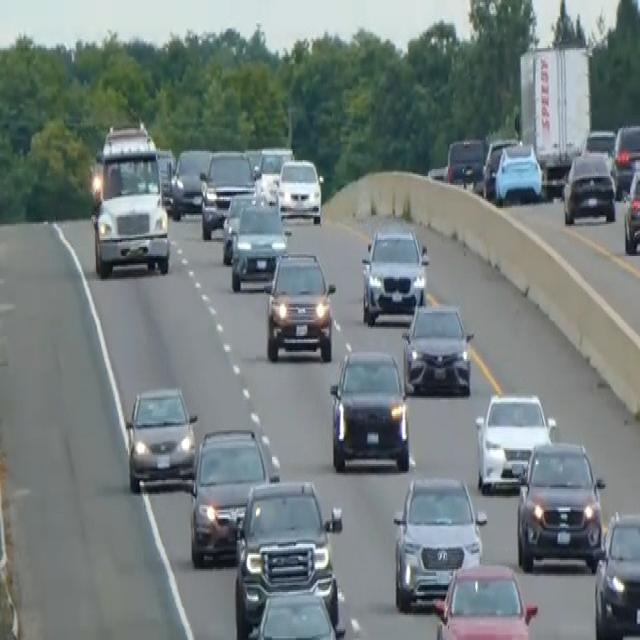car: (233, 476, 343, 638), (184, 425, 280, 567), (392, 473, 487, 611), (515, 438, 605, 572), (328, 345, 410, 473), (474, 390, 556, 494), (263, 249, 336, 363), (432, 560, 538, 638), (125, 382, 198, 491), (360, 219, 429, 325), (401, 300, 474, 396), (593, 508, 639, 638), (230, 194, 289, 292), (199, 148, 257, 240), (244, 588, 342, 638), (562, 149, 616, 226), (276, 155, 323, 224), (493, 140, 543, 204), (170, 146, 212, 218), (220, 190, 258, 263), (482, 135, 519, 197), (446, 135, 485, 187), (612, 121, 639, 195), (254, 144, 292, 196), (622, 164, 639, 254), (154, 146, 176, 210), (583, 126, 616, 158)
lorry: (87, 119, 172, 279)
truck: (516, 41, 594, 192)
